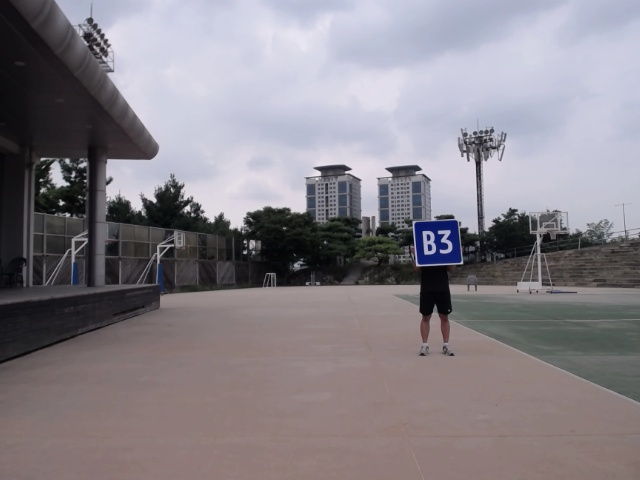delivery_b3: (412, 220, 464, 266)
